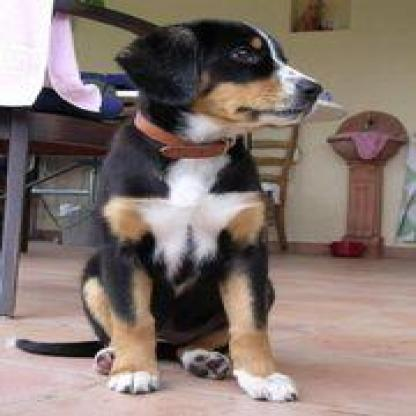EntleBucher: (12, 16, 314, 402)
